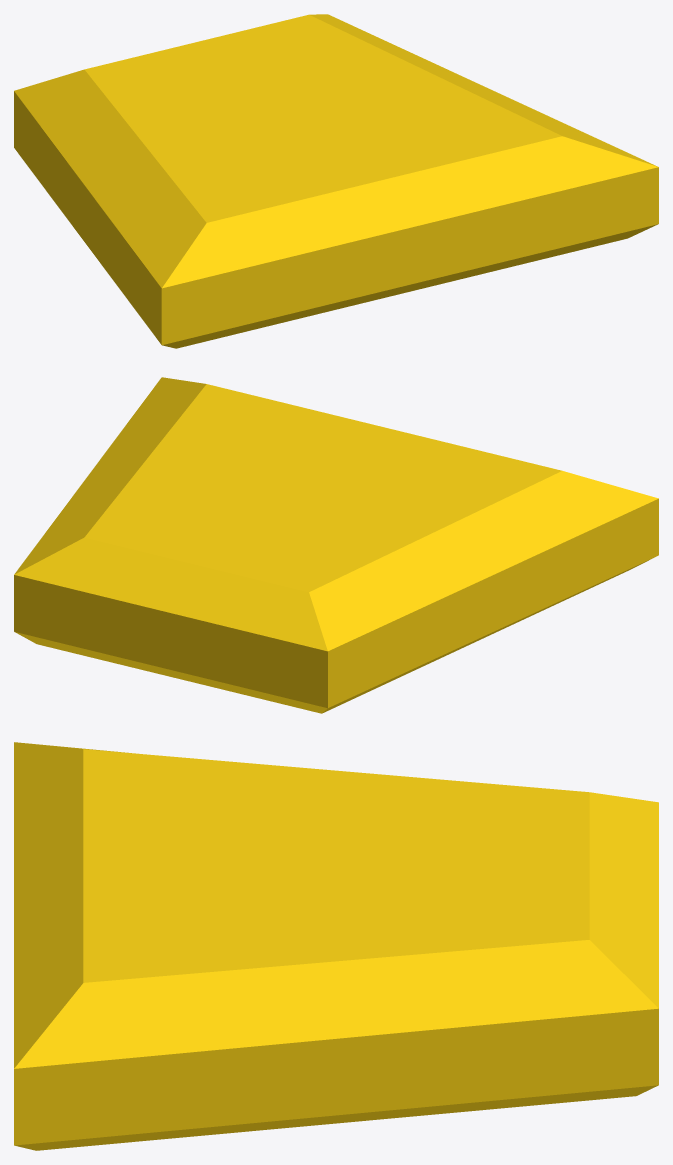
The model's file is Jem_01.fbx.
3 renders of one model, top to bottom at view 1: azimuth 30°, elevation 25°; view 2: azimuth 150°, elevation 25°; view 3: azimuth 270°, elevation 25°, orthographic. The views are drawn at different scales.
Parts seen in each view (by area): view 1: Jem_01; view 2: Jem_01; view 3: Jem_01.
Boxes of the visible parts, bbox=[...] form: Jem_01: bbox=[14, 14, 658, 348]; Jem_01: bbox=[14, 377, 658, 713]; Jem_01: bbox=[14, 742, 658, 1150].
Bounding box in the file's own units: 63.36 × 12.33 × 52.85.
